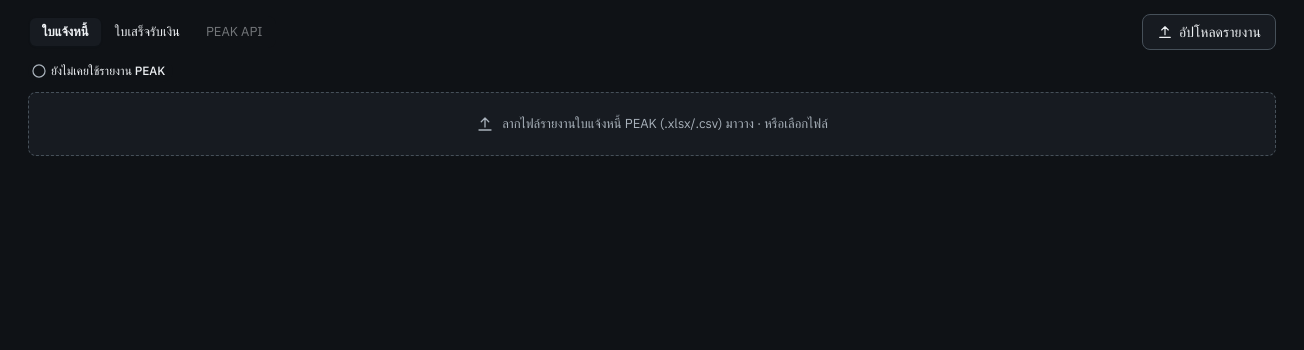
the two named uploads (D01) › keeps historical string candidates usable
This screenshot has width=1304, height=350.
Click the radio button labelled "ใบเสร็จรับเงิน".
click(147, 32)  # box [103, 18, 192, 46]
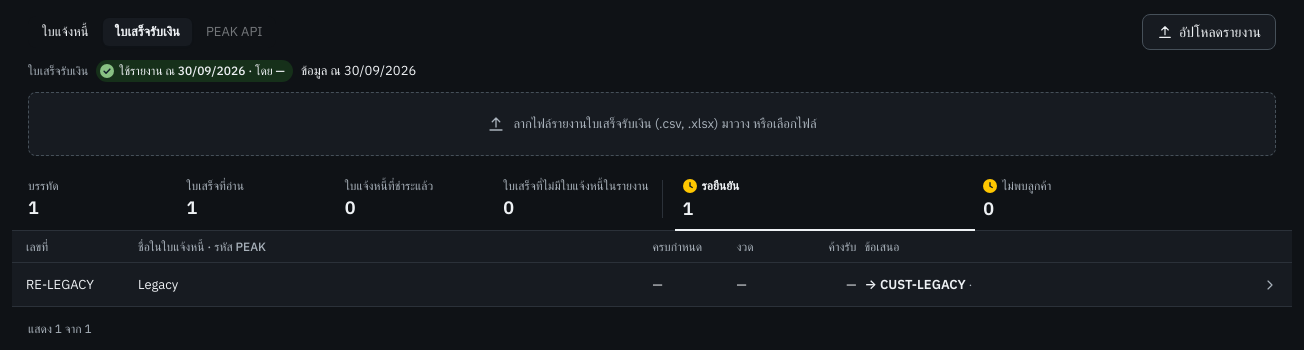
Expected: the text "RE-LEGACY" is shown, [26, 276, 94, 292]
Expected: the text "→ CUST-LEGACY" is shown, [864, 276, 966, 292]
